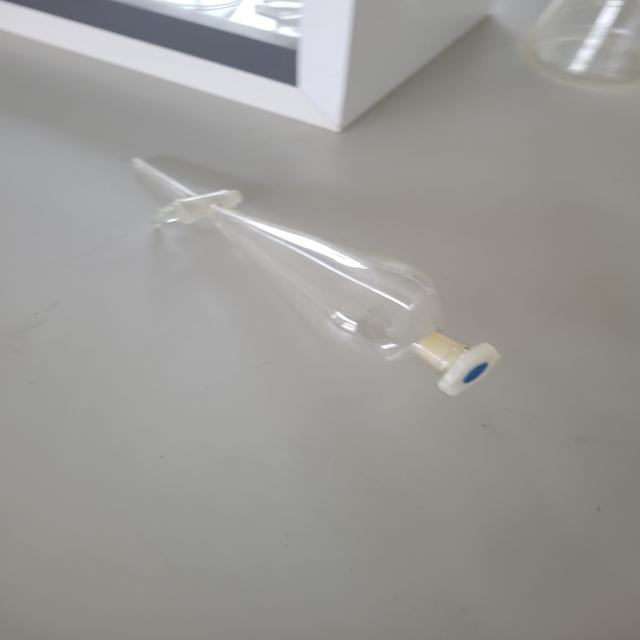Separating_Funnel: (106, 124, 556, 408)
